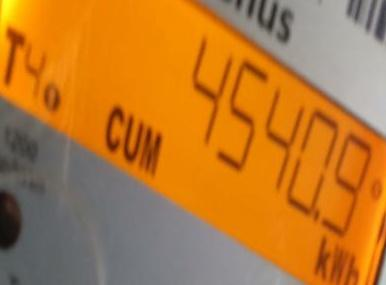.: (315, 232, 365, 285)
0: (308, 210, 324, 223)
1: (285, 115, 345, 219)
5: (192, 35, 234, 148), (262, 87, 303, 193)
6: (218, 58, 267, 175)
:: (322, 139, 378, 232)
